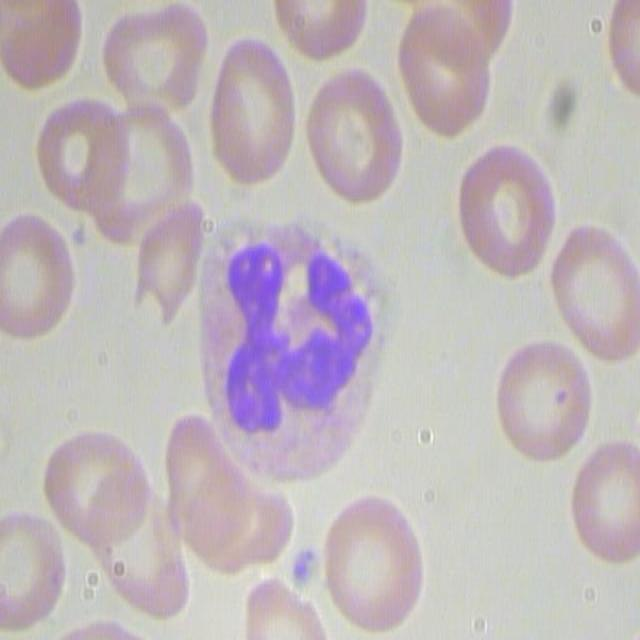RBC: (160, 408, 288, 574), (83, 101, 195, 245), (321, 494, 430, 634), (39, 428, 154, 558), (306, 62, 404, 214), (205, 30, 300, 184), (456, 139, 558, 281), (92, 474, 186, 626), (392, 4, 497, 140), (100, 0, 210, 125), (490, 339, 595, 462), (550, 223, 638, 366), (34, 96, 121, 212), (0, 209, 73, 347), (564, 438, 640, 564), (132, 206, 207, 324), (0, 506, 65, 630), (0, 0, 80, 85), (270, 0, 371, 58), (234, 577, 324, 640), (606, 0, 640, 101)
WBC: (202, 220, 380, 470)
platelets: (286, 542, 321, 590)
